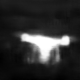plane: (16, 29, 78, 67)
